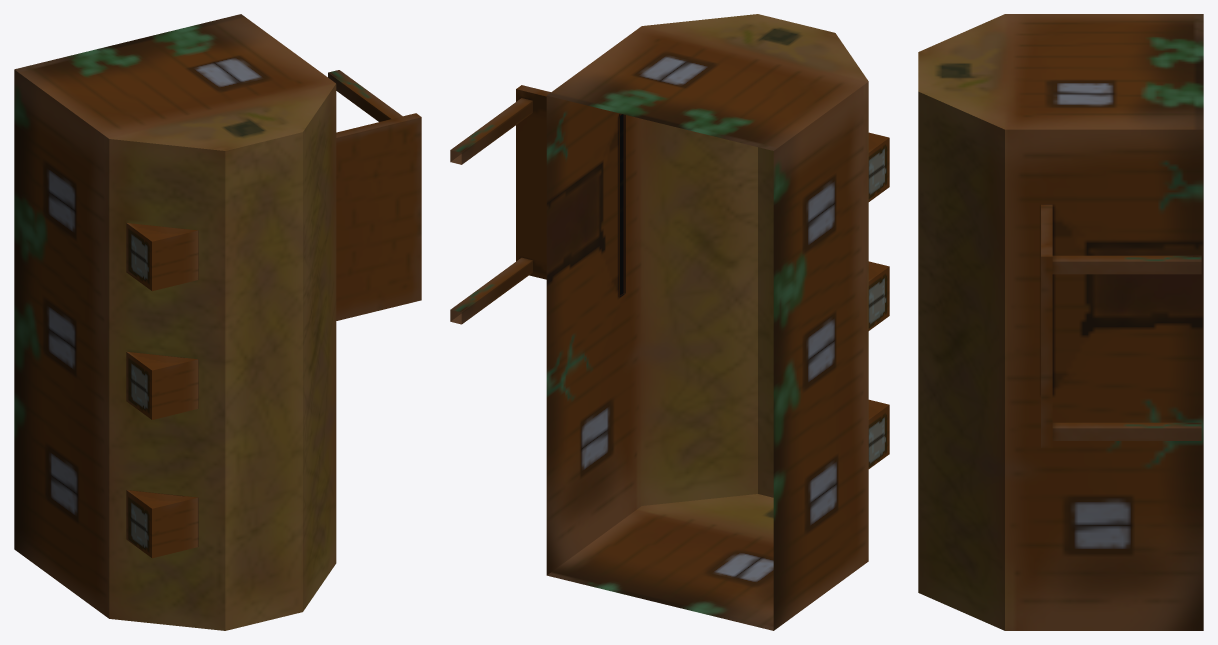
Rendered from House1.obj.
3 views of the same model, side by side, from view 1: azimuth 30°, elevation 25°; view 2: azimuth 150°, elevation 25°; view 3: azimuth 270°, elevation 25° (orthographic). The views are drawn at different scales.
Visible parts, largest first — view 1: Cube; view 2: Cube; view 3: Cube.
Part boxes in pixels (x1,y1,x2,y2): Cube: (14, 14, 421, 630); Cube: (450, 14, 889, 630); Cube: (918, 14, 1203, 630).
Size of the model in its own units: 6.53 by 9.08 by 4.68.
